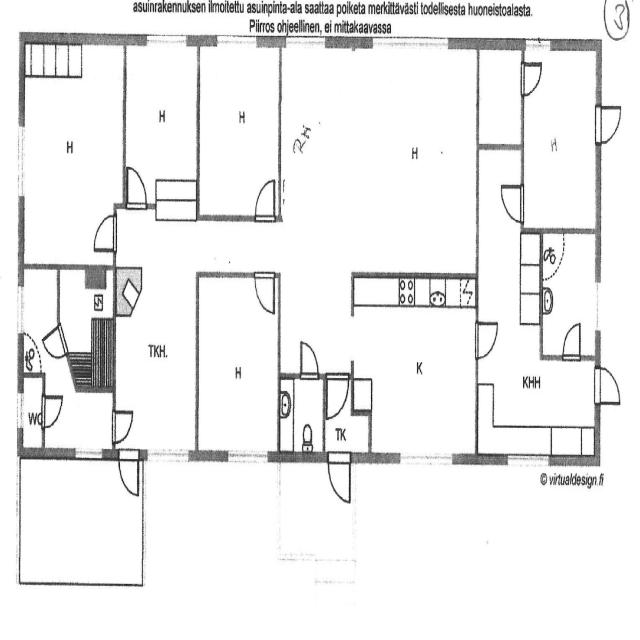door: (498, 177, 528, 227), (324, 371, 352, 422), (327, 448, 352, 505), (595, 99, 625, 146), (472, 314, 501, 362), (90, 206, 119, 253), (595, 361, 623, 409), (252, 268, 278, 318), (118, 446, 142, 499), (108, 402, 138, 444), (124, 160, 149, 209), (542, 231, 566, 281), (560, 316, 585, 362), (520, 56, 546, 100), (253, 174, 277, 221), (297, 337, 321, 380), (41, 319, 64, 363), (41, 389, 65, 430)
window: (17, 370, 44, 451), (395, 448, 459, 473), (143, 442, 195, 470), (14, 114, 29, 209), (501, 448, 554, 474), (222, 446, 272, 470), (67, 439, 108, 466), (212, 29, 260, 51), (142, 29, 191, 50), (592, 270, 605, 342), (15, 277, 28, 341), (14, 387, 25, 435)
zone: (283, 46, 482, 275), (20, 44, 124, 266), (353, 278, 478, 460), (114, 213, 200, 452), (197, 38, 280, 222), (197, 272, 279, 458), (522, 45, 598, 231), (123, 37, 199, 210), (474, 347, 600, 451), (540, 228, 599, 358), (60, 264, 114, 384), (477, 42, 523, 148), (20, 268, 60, 369), (278, 374, 326, 458), (20, 368, 44, 451)
